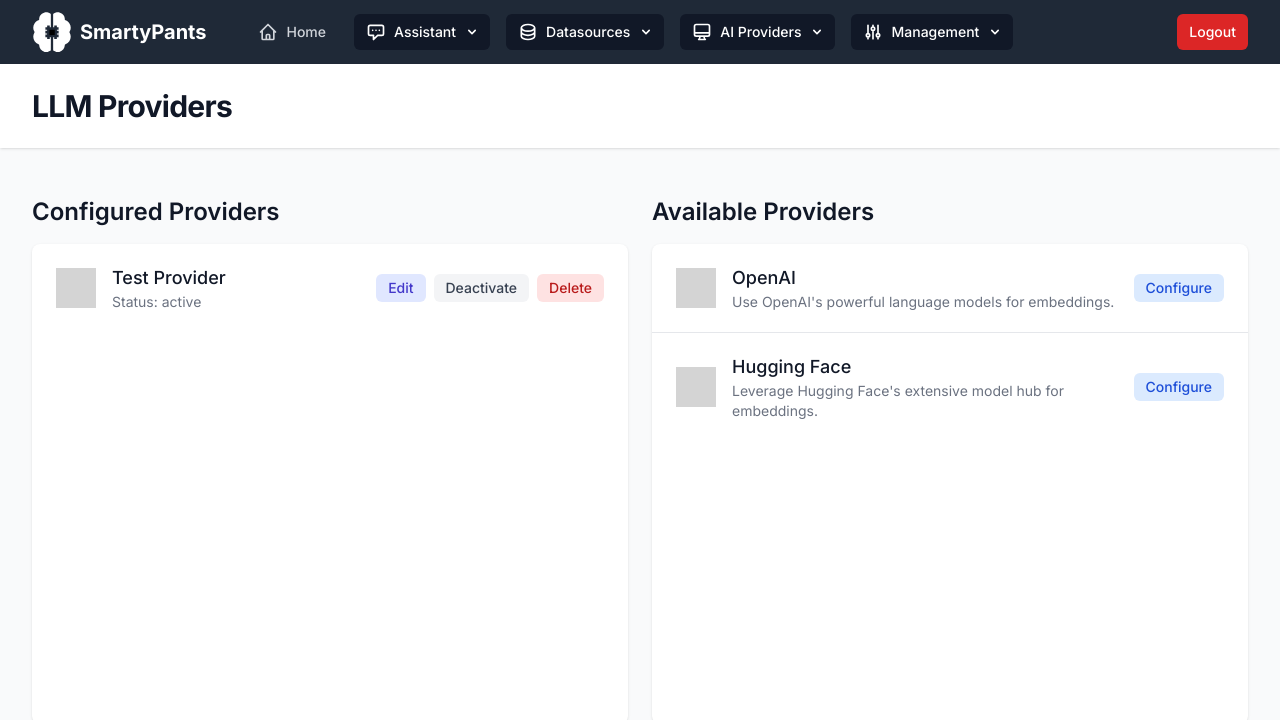
Scenario: LLMProvidersPage › handles API error on deactivate
Expected: the heading "Test Provider" is shown, x1=112 y1=264 x2=226 y2=292
What coordinates should you click on to do the following:
click the button "Deactivate"
I would click on:
 (481, 288)
Its box is x1=434 y1=274 x2=529 y2=302.
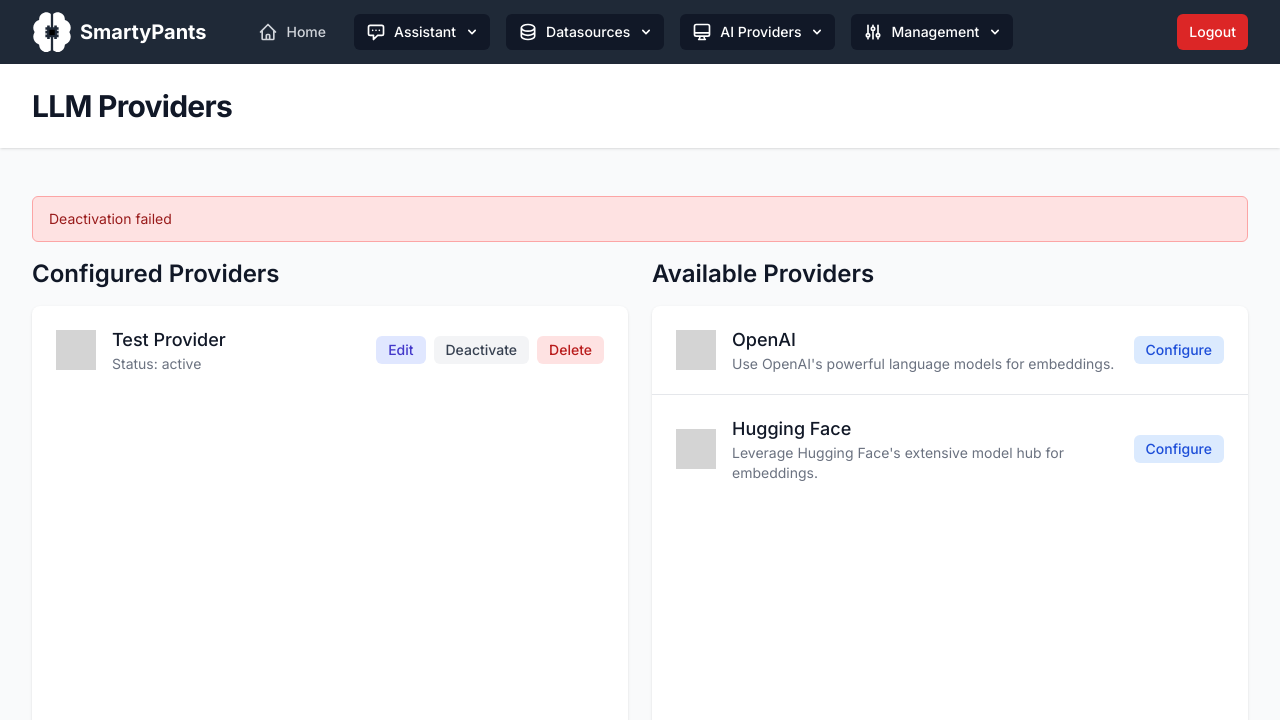
Now the text "Deactivation failed" is shown, box x1=49 y1=210 x2=172 y2=227
